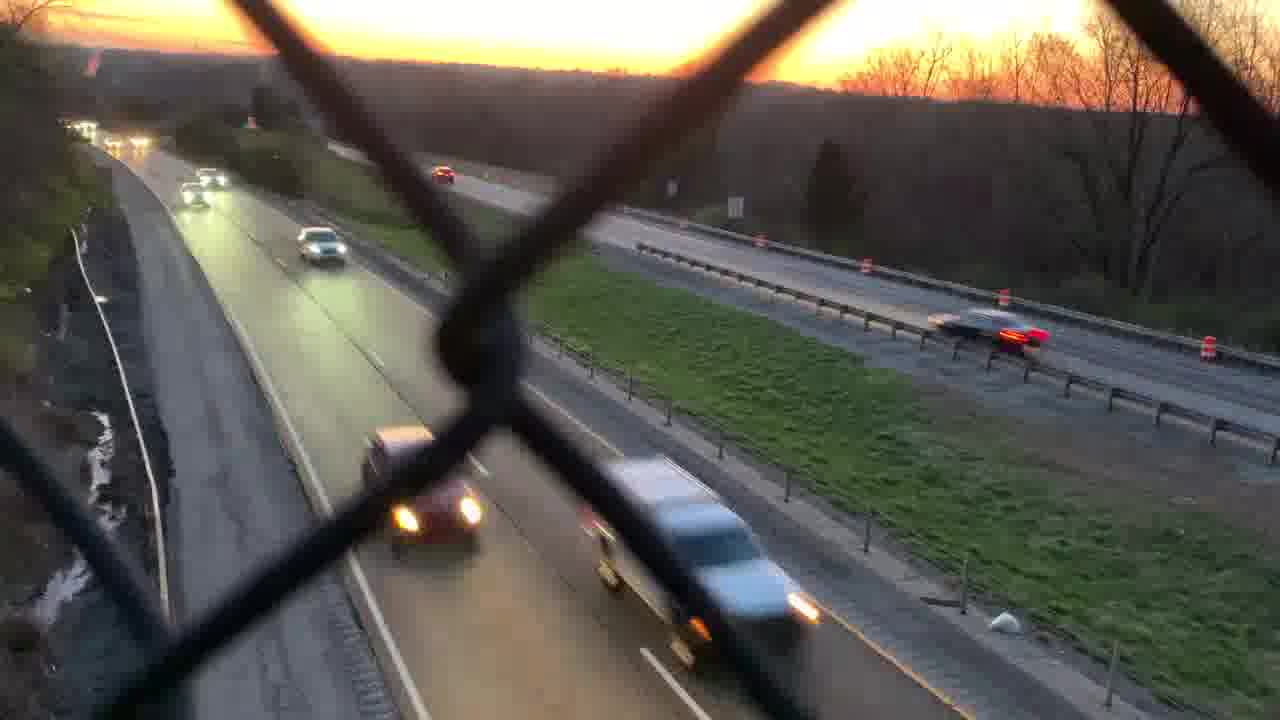largeCar: (361, 420, 497, 563)
lightTruck: (596, 448, 816, 647)
smallCar: (927, 303, 1054, 355)
